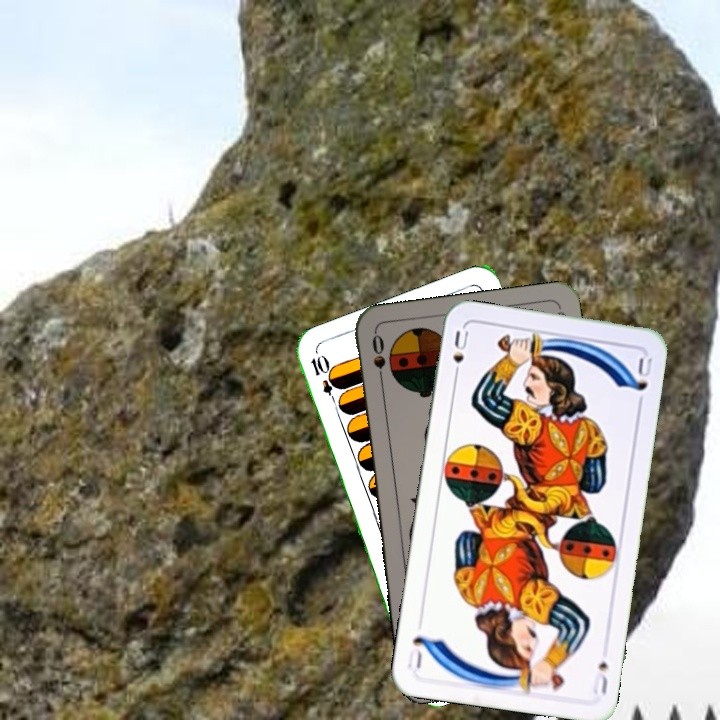E10: (307, 351, 342, 409)
SO: (368, 330, 389, 389)
SU: (448, 326, 471, 383), (588, 657, 611, 698)
